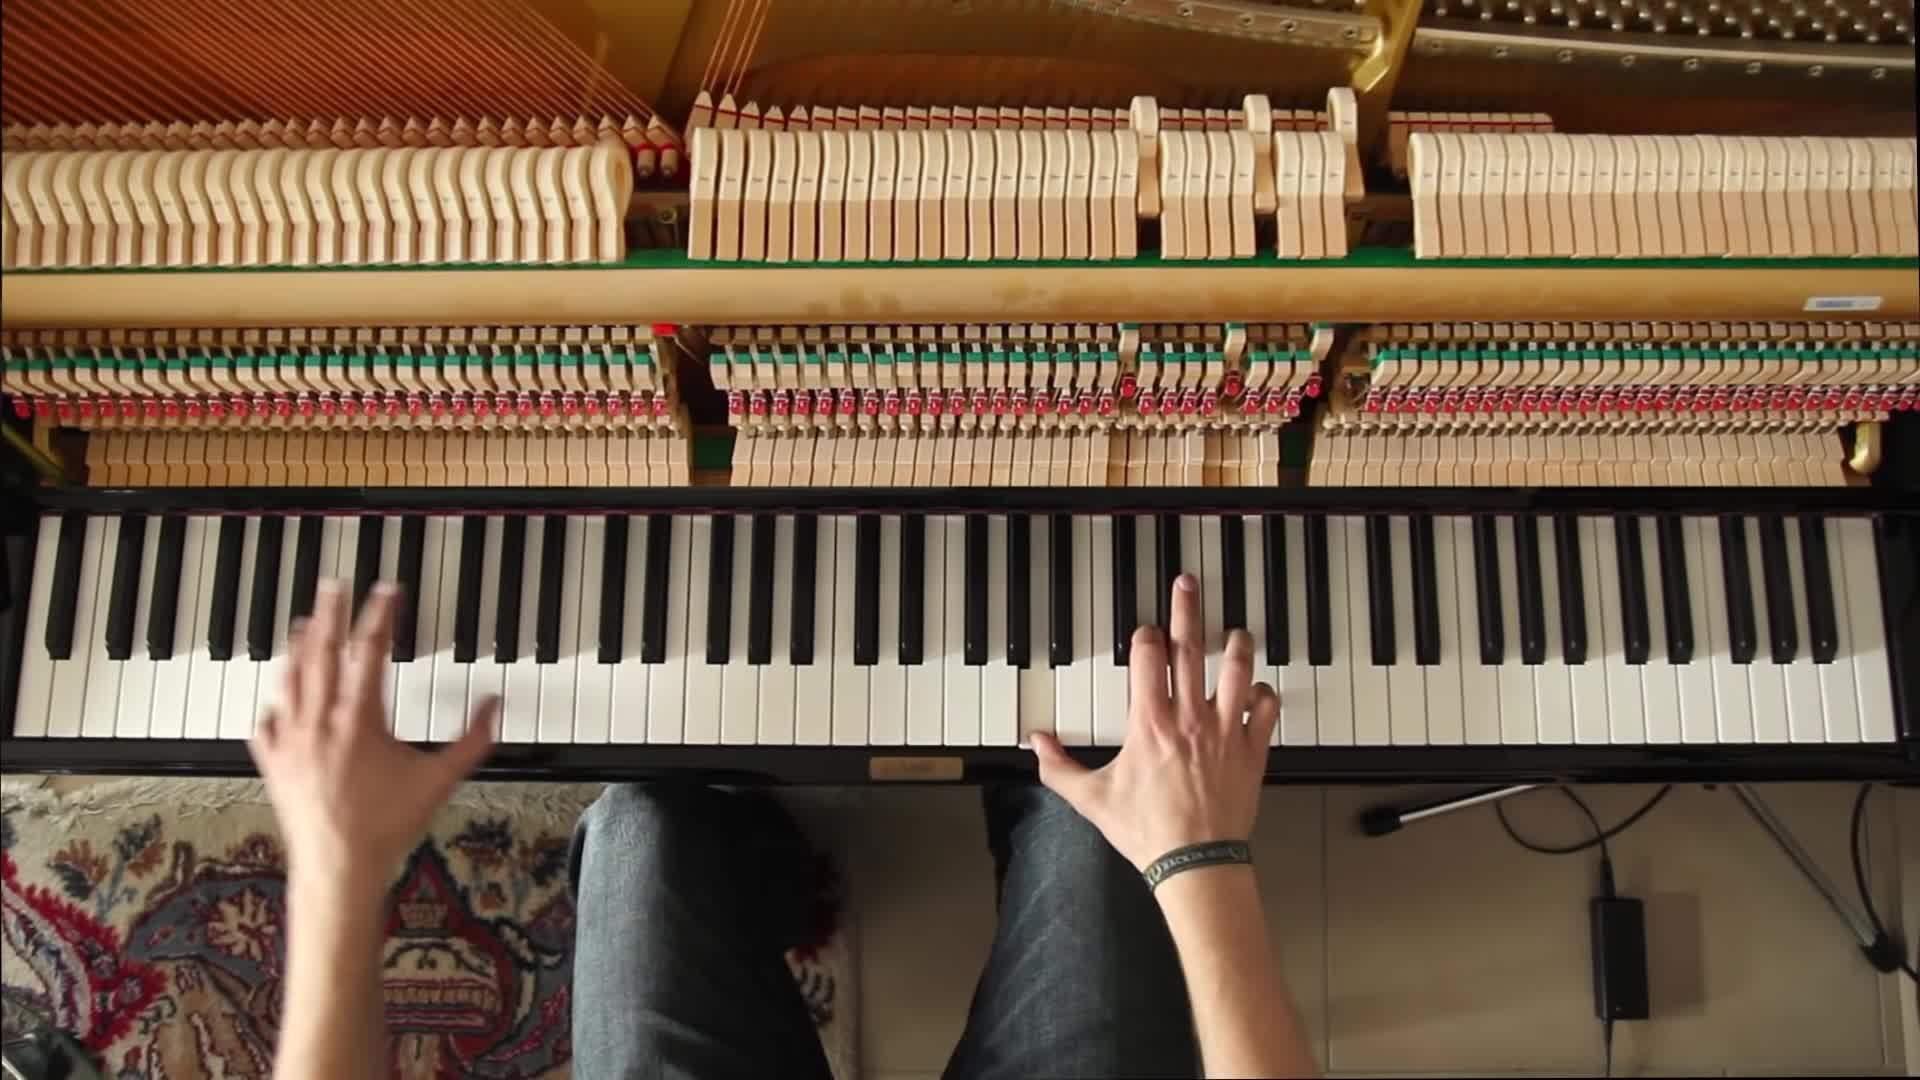left: (248, 580, 500, 893)
right: (1031, 572, 1275, 861)
